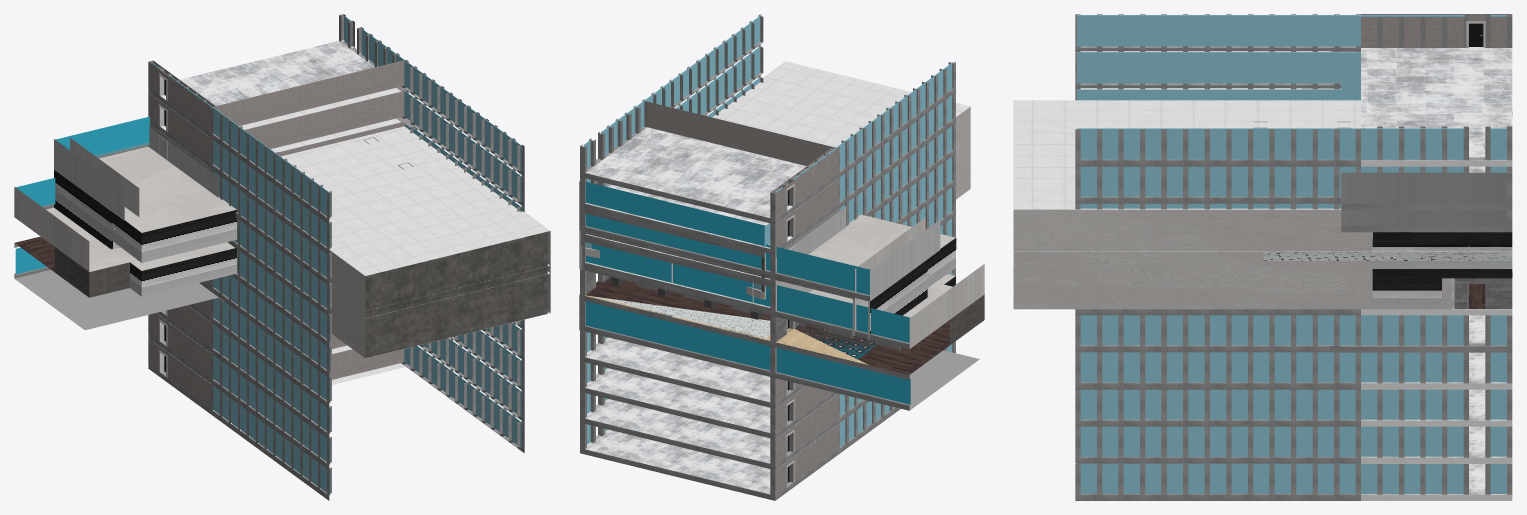
File: platformS.fbx
The picture shows the model from 3 angles, left to right: view 1: azimuth 30°, elevation 25°; view 2: azimuth 150°, elevation 25°; view 3: azimuth 270°, elevation 25°; orthographic projection. The views are drawn at different scales.
Parts seen in each view (by area): view 1: PlatformEnd, Platform.003, PlatformStart, Platform.005, Platform.006, Platform.004, Platform.008; view 2: PlatformStart, PlatformEnd, Platform.005, Platform.006, Platform.003, Platform, Platform.001, Platform.004, Platform.008, Platform.002, Platform.007; view 3: PlatformStart, Platform.003, PlatformEnd, Platform.005, Platform.002.
Boxes of the visible parts, <box> form: PlatformEnd: <box>148,39,406,500</box>; Platform.003: <box>222,117,550,358</box>; PlatformStart: <box>148,14,524,452</box>; Platform.005: <box>54,116,249,320</box>; Platform.006: <box>14,178,137,330</box>; Platform.004: <box>70,118,414,216</box>; Platform.008: <box>148,127,218,197</box>; PlatformStart: <box>580,14,837,500</box>; PlatformEnd: <box>585,62,955,500</box>; Platform.005: <box>579,200,956,400</box>; Platform.006: <box>579,264,984,410</box>; Platform.003: <box>579,61,970,368</box>; Platform: <box>585,244,812,372</box>; Platform.001: <box>586,244,809,377</box>; Platform.004: <box>579,217,925,396</box>; Platform.008: <box>585,206,846,368</box>; Platform.002: <box>585,248,798,369</box>; Platform.007: <box>586,270,764,349</box>; PlatformStart: <box>1075,14,1512,500</box>; Platform.003: <box>1013,63,1512,352</box>; PlatformEnd: <box>1075,14,1512,500</box>; Platform.005: <box>1301,88,1512,346</box>; Platform.002: <box>1397,278,1512,346</box>.
Bounding box in the file's own units: 430 × 353 × 397.
30 materials, 29 textured.
